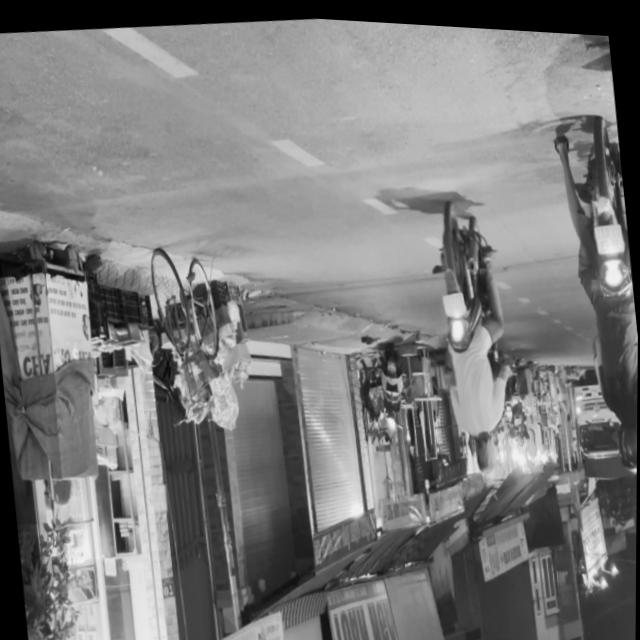helmet: (615, 411, 638, 465)
licenseplate: (546, 111, 640, 474), (423, 192, 521, 477)
motorcyclist: (467, 419, 499, 471)
nohelmet: (592, 216, 622, 249), (440, 287, 464, 313)
